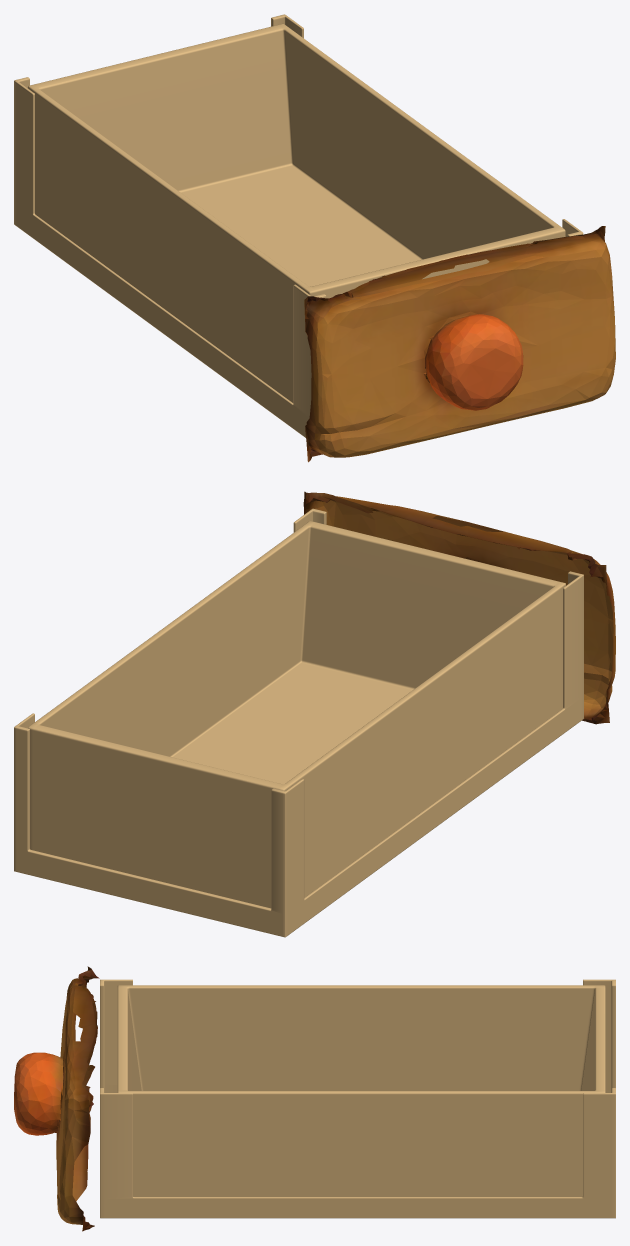
Rendered from drawer_top.glb.
The picture shows the model from 3 angles, top to bottom: view 1: azimuth 30°, elevation 25°; view 2: azimuth 150°, elevation 25°; view 3: azimuth 270°, elevation 25°; orthographic projection. The views are drawn at different scales.
Parts seen in each view (by area): view 1: prefab_drawer_body_1, source_front_cap_0; view 2: prefab_drawer_body_1, source_front_cap_0; view 3: prefab_drawer_body_1, source_front_cap_0.
Part boxes in pixels (<box>): prefab_drawer_body_1: <box>14,14,583,437</box>; source_front_cap_0: <box>304,226,615,462</box>; prefab_drawer_body_1: <box>14,508,583,937</box>; source_front_cap_0: <box>303,491,615,724</box>; prefab_drawer_body_1: <box>100,979,615,1218</box>; source_front_cap_0: <box>14,966,99,1231</box>.
Size of the model in its own units: 0.1528 by 0.0777 by 0.306.
2 materials, 1 textured.
